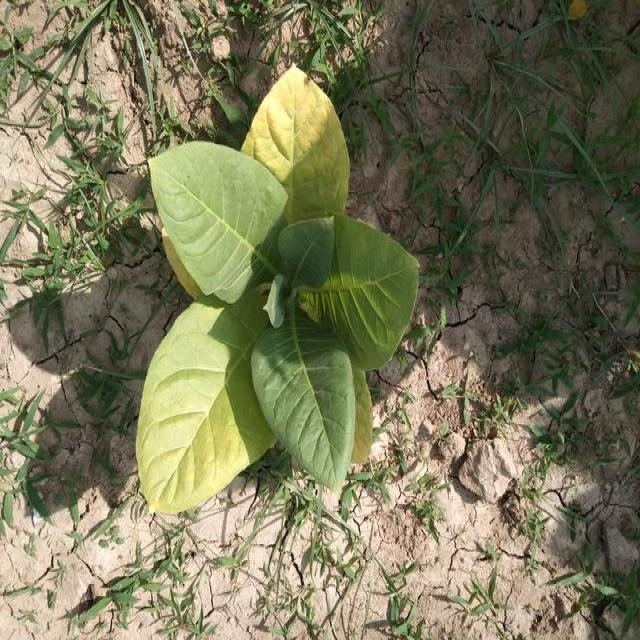crop: (141, 64, 423, 517)
